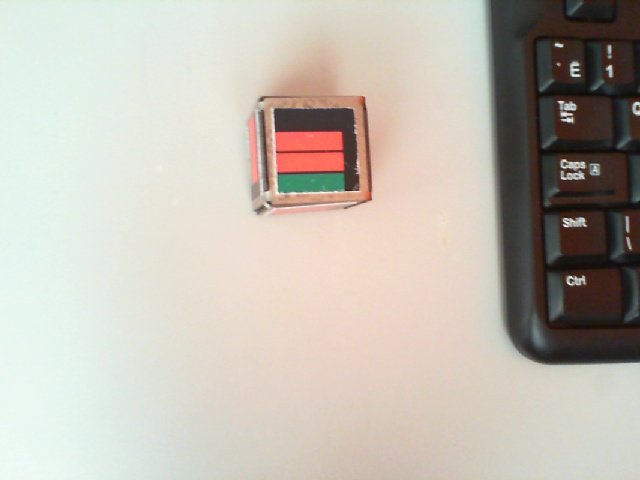square: (273, 108, 358, 192)
